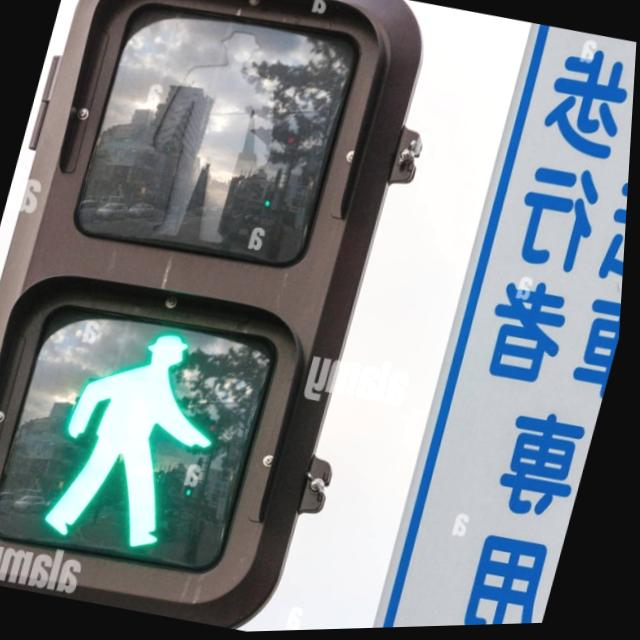green_light: (19, 306, 248, 568)
